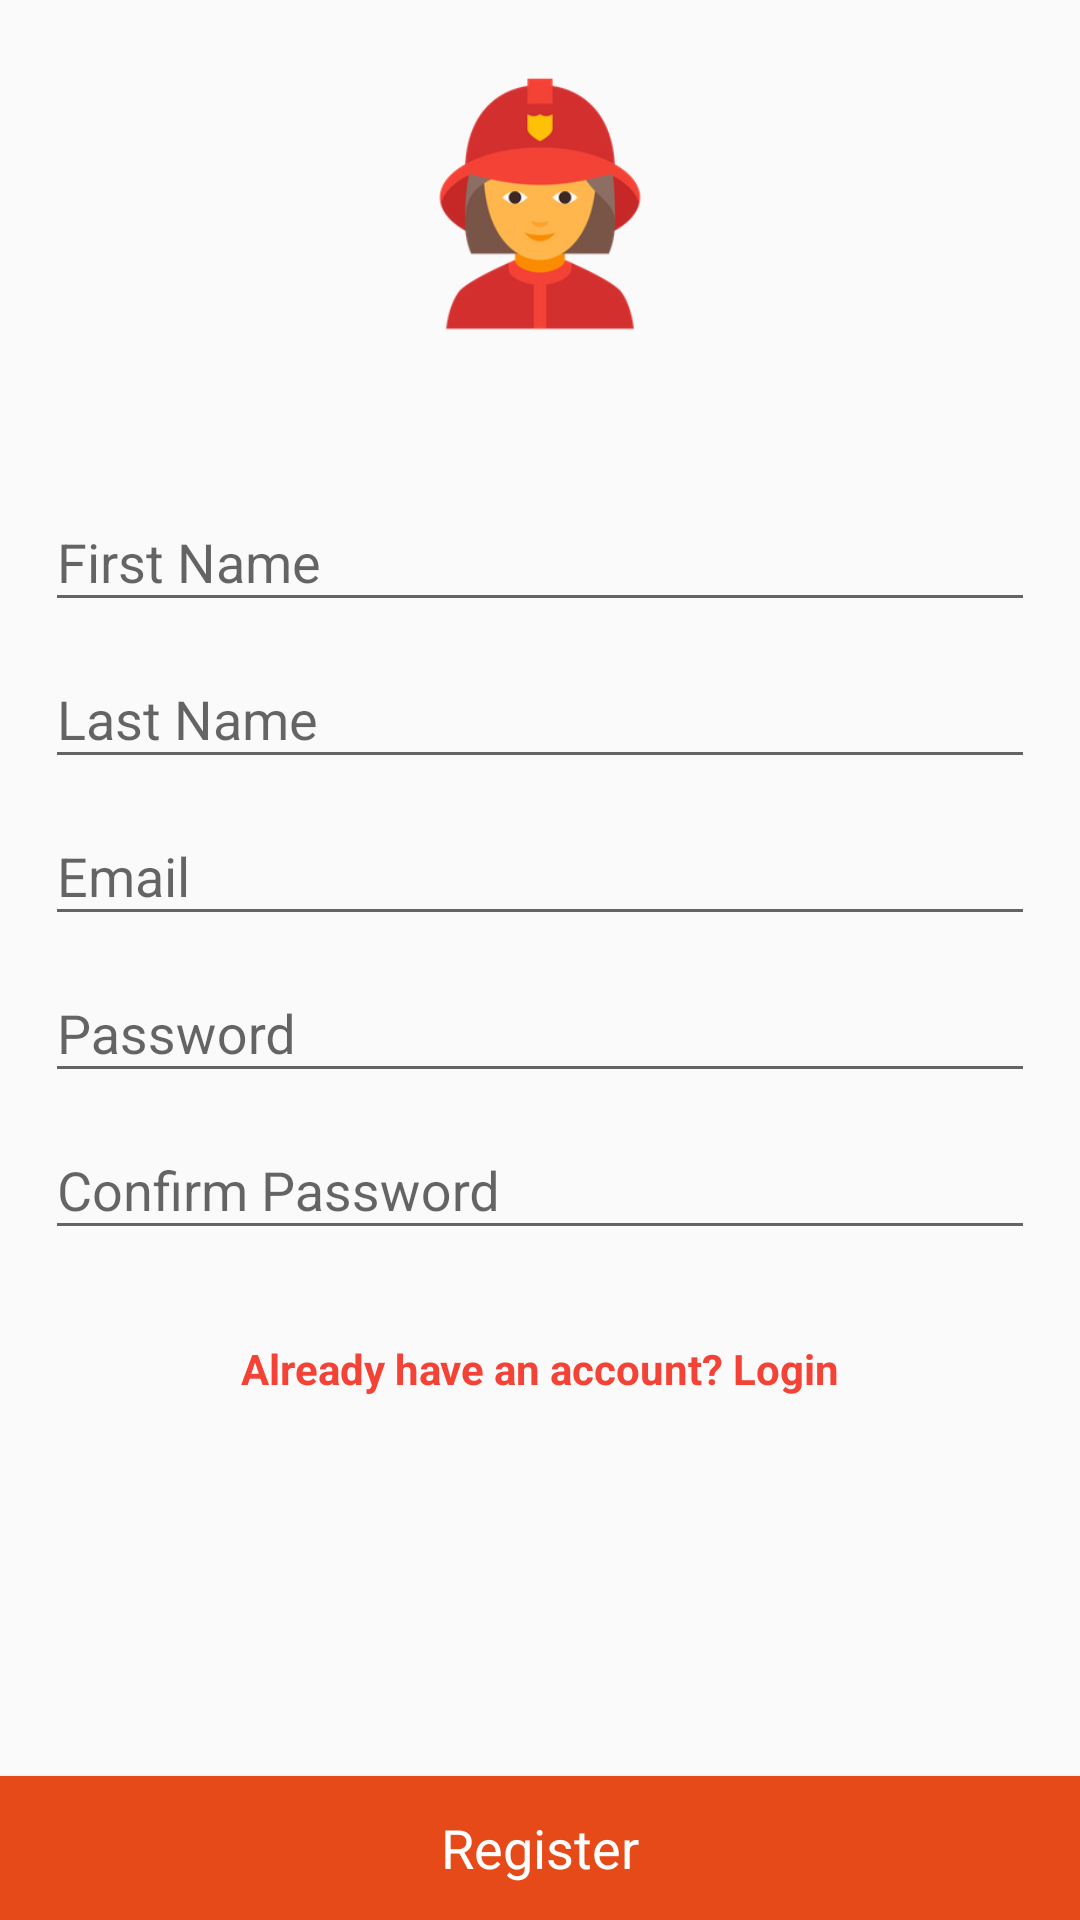

Icons on this 1080×1920 Android screen, each with its box as [left=x1, top=y1, right=x2, bottom=y2]:
fireman: [left=439, top=78, right=641, bottom=330]
